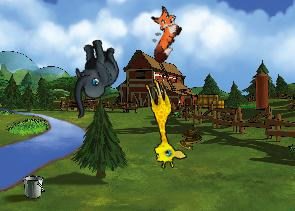elephant: (56, 35, 130, 118)
fox: (134, 3, 189, 65)
giraffe: (133, 76, 188, 171)
